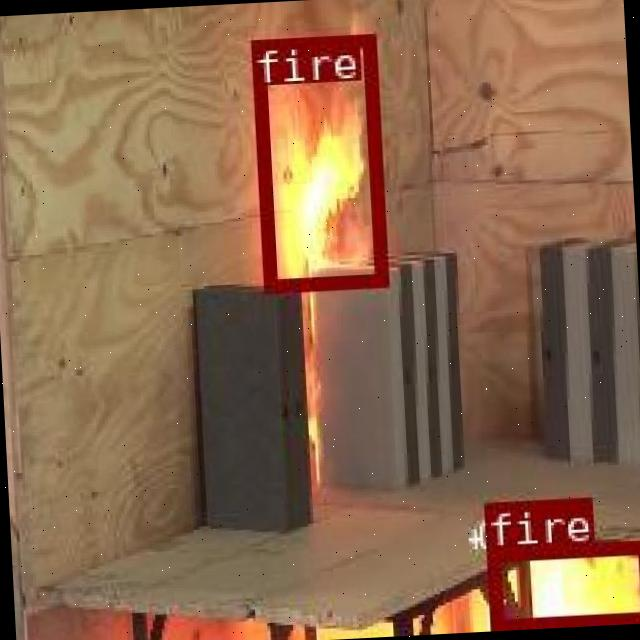fire: (249, 32, 384, 290), (485, 539, 640, 629)
